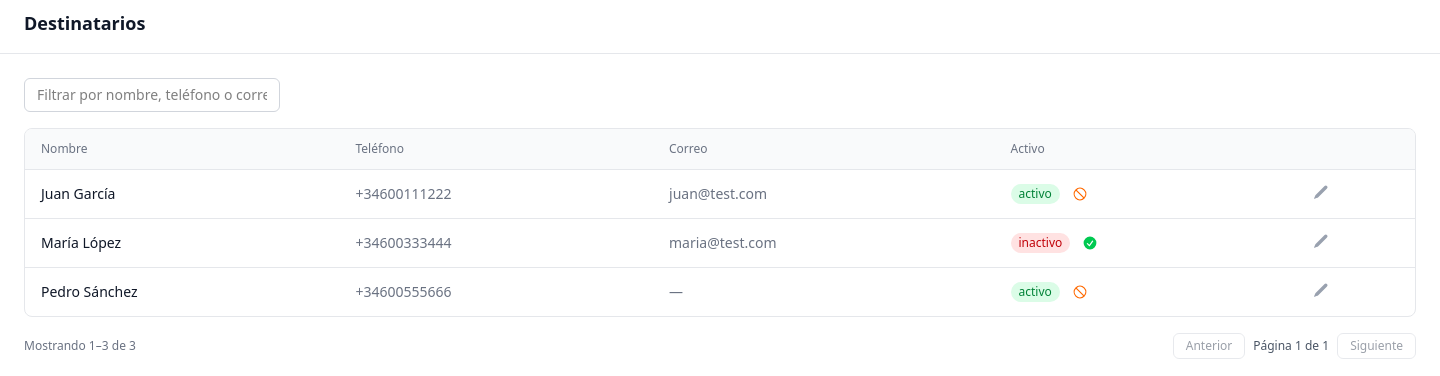
Test: RecipientsPage › filters recipients by phone number
Expected: the text "Juan García" is shown, [25,170,340,218]
Type "600333" into the field with placeholder "Filtrar por nombre, teléfono o correo..." at (152, 95), box [24,78,280,112]
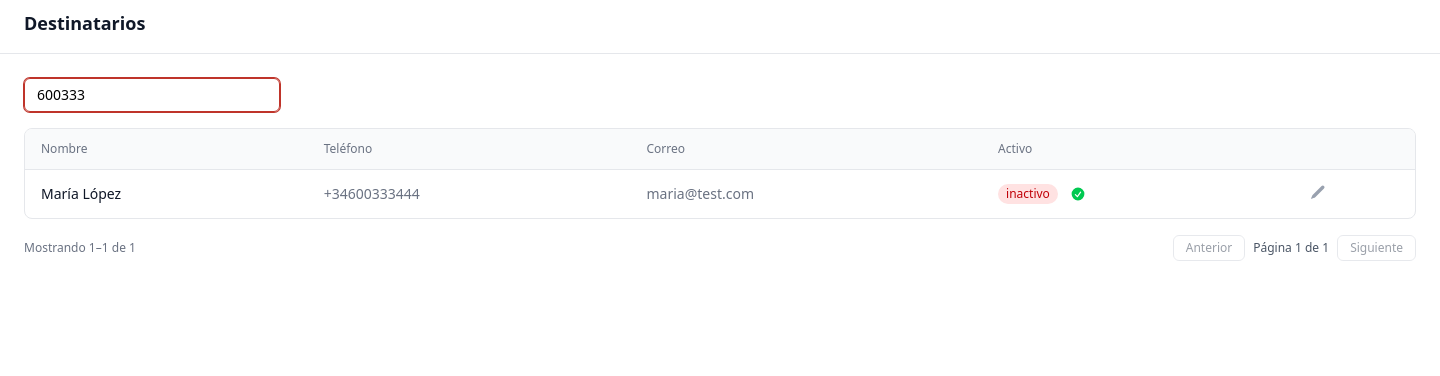
Expected: the text "María López" is shown, [25,170,308,218]
Expected: the text "Juan García" is gone
